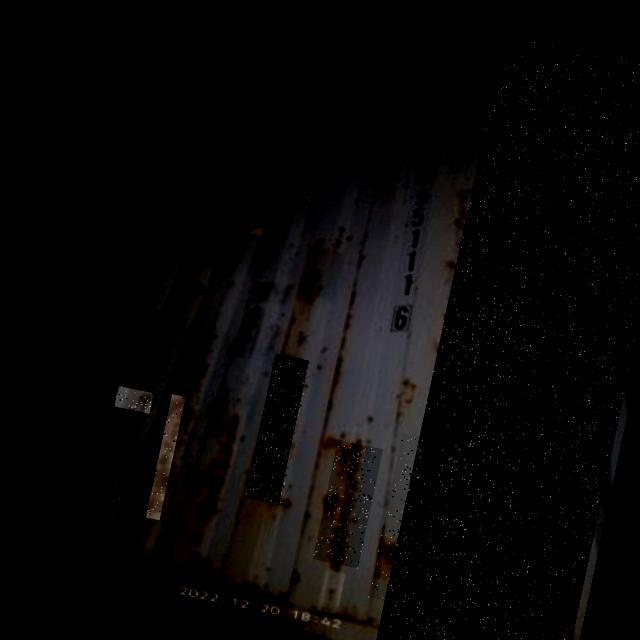Rust: (485, 33, 560, 640), (367, 434, 440, 608), (245, 354, 311, 505), (313, 439, 383, 568), (145, 394, 185, 520), (102, 442, 134, 504), (114, 386, 154, 414)
